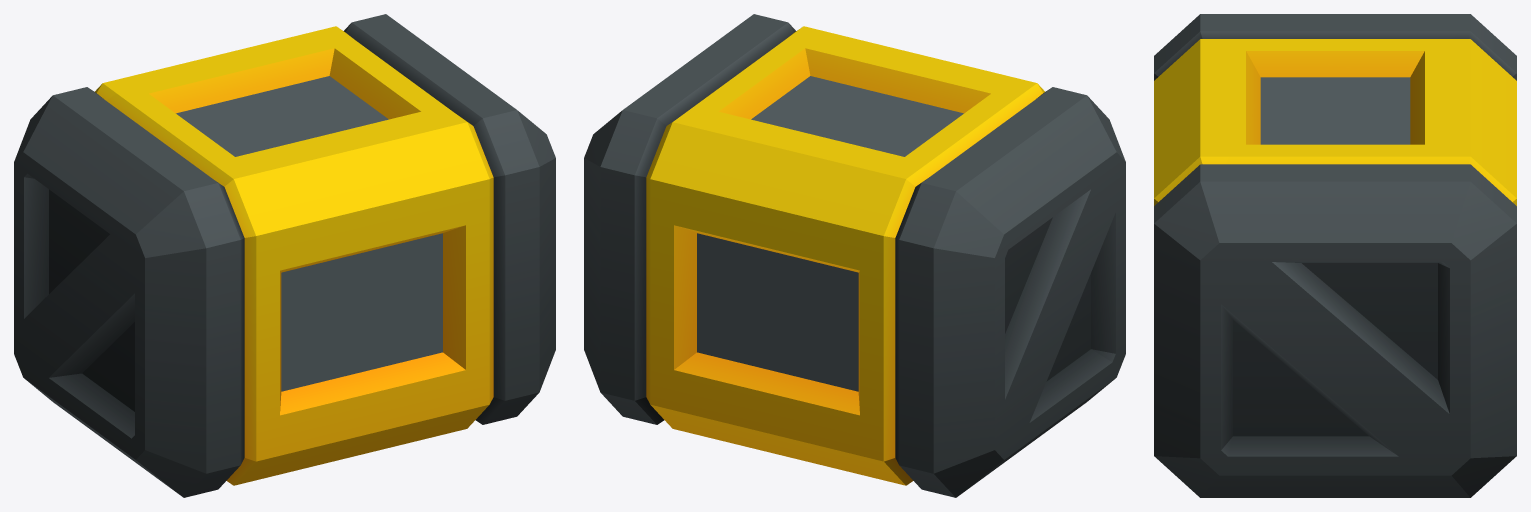
3 renders of one model, left to right at view 1: azimuth 30°, elevation 25°; view 2: azimuth 150°, elevation 25°; view 3: azimuth 270°, elevation 25°, orthographic. The views are drawn at different scales.
Parts seen in each view (by area): view 1: Box_015; view 2: Box_015; view 3: Box_015.
Boxes of the visible parts, x1,y1,x2,y2 form: Box_015: (14, 14, 555, 497); Box_015: (584, 14, 1125, 497); Box_015: (1154, 14, 1516, 497).
Bounding box in the file's own units: 0.8472 × 0.6043 × 0.6283.
Materials: 1 (1 with a texture image).
